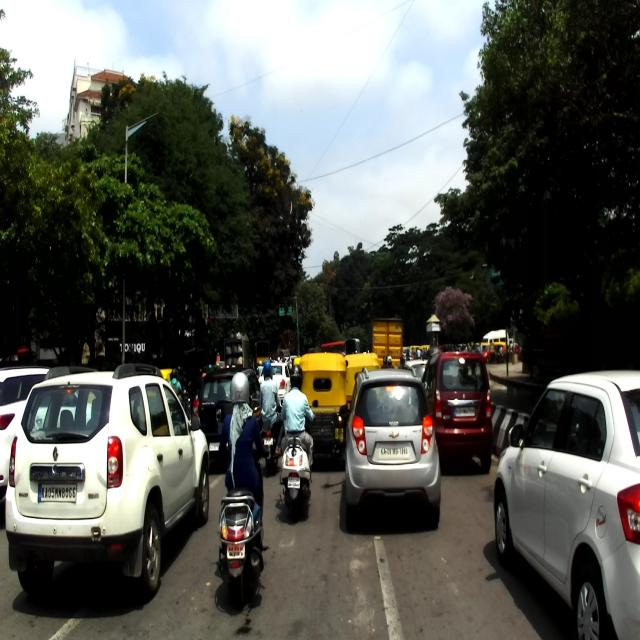Car_Chevrolet: (338, 365, 441, 532)
Car_Maruti-Suzuki: (492, 368, 640, 638), (422, 350, 494, 474)
Car_Renault: (4, 362, 210, 599)
autorickshaw: (299, 352, 348, 471)
scooter: (216, 418, 272, 611), (278, 398, 320, 523)
